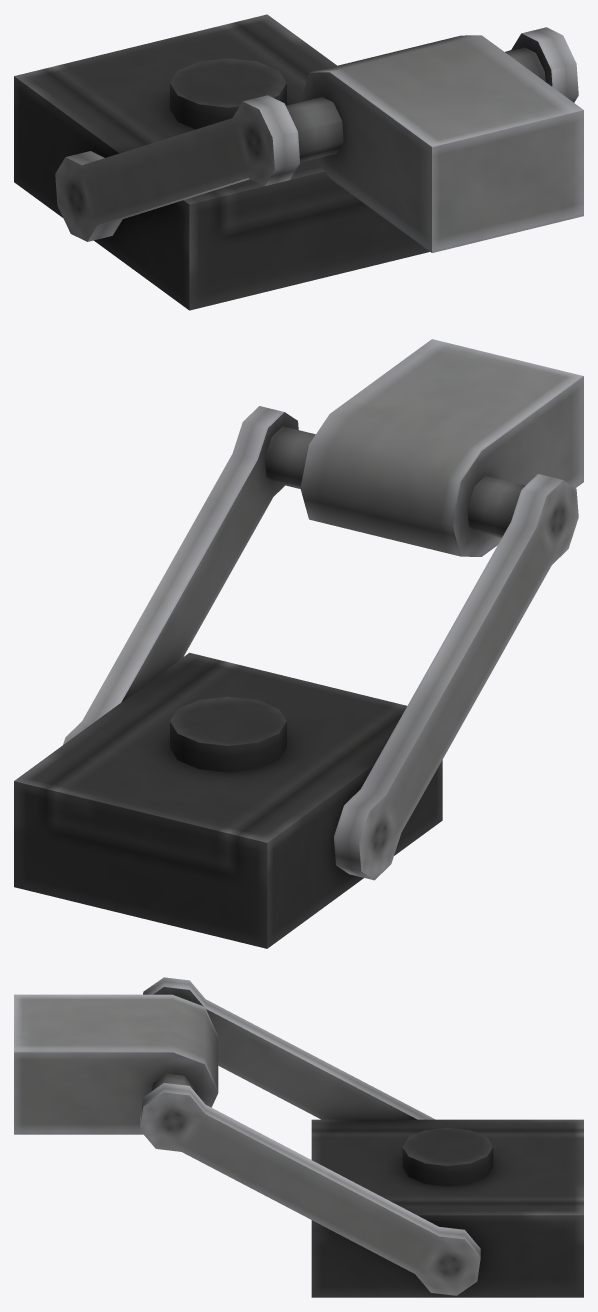
Rendered from xrayspec.obj.
3 renders of one model, top to bottom at view 1: azimuth 30°, elevation 25°; view 2: azimuth 150°, elevation 25°; view 3: azimuth 270°, elevation 25°, orthographic. The views are drawn at different scales.
Visible parts, largest first — view 1: 1; view 2: 1; view 3: 1.
Part boxes in pixels (bbox=[...]): 1: bbox=[14, 14, 583, 310]; 1: bbox=[14, 339, 583, 948]; 1: bbox=[14, 977, 583, 1297].
Bounding box in the file's own units: 0.15 × 0.1375 × 0.3141.
Materials: 1 (1 with a texture image).
